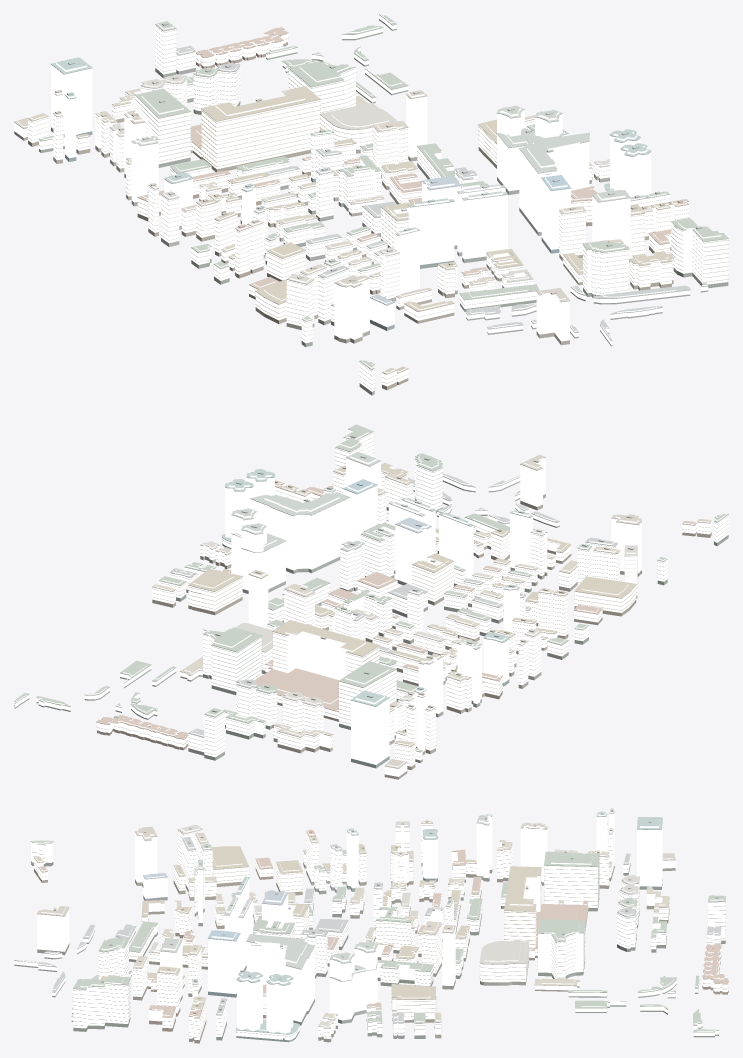
File: buildings--11_-1-fine.glb
3 renders of one model, top to bottom at view 1: azimuth 30°, elevation 25°; view 2: azimuth 150°, elevation 25°; view 3: azimuth 270°, elevation 25°, orthographic. The views are drawn at different scales.
Visible parts, largest first — view 1: block_-11_-1_residential, block_-11_-1_roof, block_-11_-1_office, block_-11_-1_concrete, block_-11_-1_darkglass, block_-11_-1_steel; view 2: block_-11_-1_residential, block_-11_-1_roof, block_-11_-1_office, block_-11_-1_concrete, block_-11_-1_darkglass, block_-11_-1_steel; view 3: block_-11_-1_residential, block_-11_-1_roof, block_-11_-1_office, block_-11_-1_darkglass, block_-11_-1_concrete, block_-11_-1_steel.
Part boxes in pixels (box(x1,y1,x2,y2)): block_-11_-1_residential: box(28, 15, 728, 391); block_-11_-1_roof: box(14, 14, 728, 388); block_-11_-1_office: box(14, 62, 651, 341); block_-11_-1_concrete: box(28, 14, 728, 389); block_-11_-1_darkglass: box(14, 19, 728, 395); block_-11_-1_steel: box(14, 64, 650, 305); block_-11_-1_residential: box(14, 429, 728, 766); block_-11_-1_roof: box(14, 424, 728, 768); block_-11_-1_office: box(225, 456, 641, 776); block_-11_-1_concrete: box(14, 429, 728, 764); block_-11_-1_darkglass: box(14, 480, 728, 779); block_-11_-1_steel: box(225, 457, 641, 768); block_-11_-1_residential: box(14, 822, 728, 1040); block_-11_-1_roof: box(14, 808, 728, 1039); block_-11_-1_office: box(37, 811, 675, 1038); block_-11_-1_darkglass: box(14, 861, 728, 1043); block_-11_-1_concrete: box(14, 823, 728, 1037); block_-11_-1_steel: box(37, 813, 675, 985).
Size of the model in its own units: 394 by 64.41 by 663.
